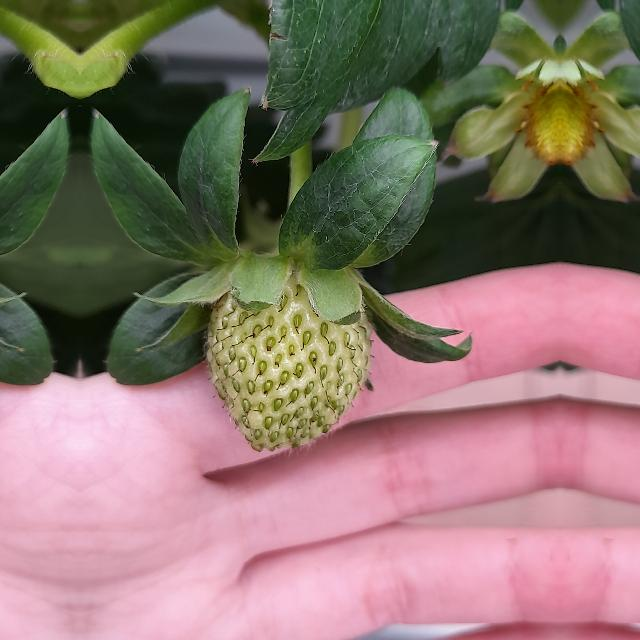Health_25: (205, 270, 372, 452)
